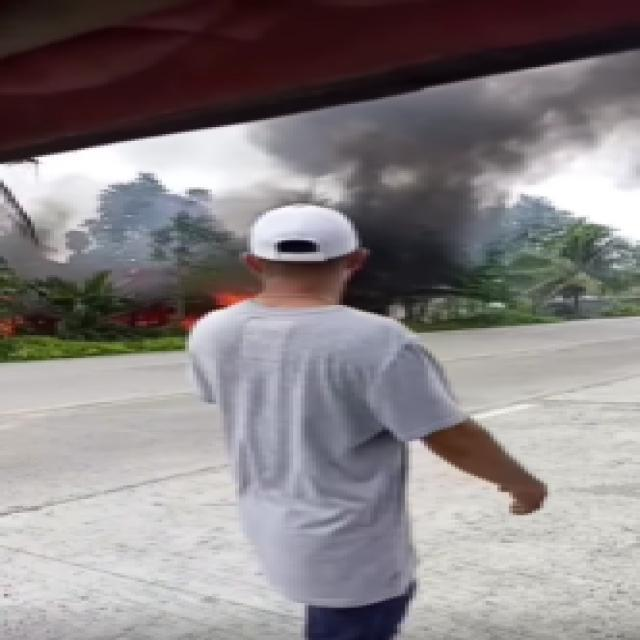Smoke: (296, 121, 535, 198), (381, 205, 496, 290), (470, 79, 640, 133)
